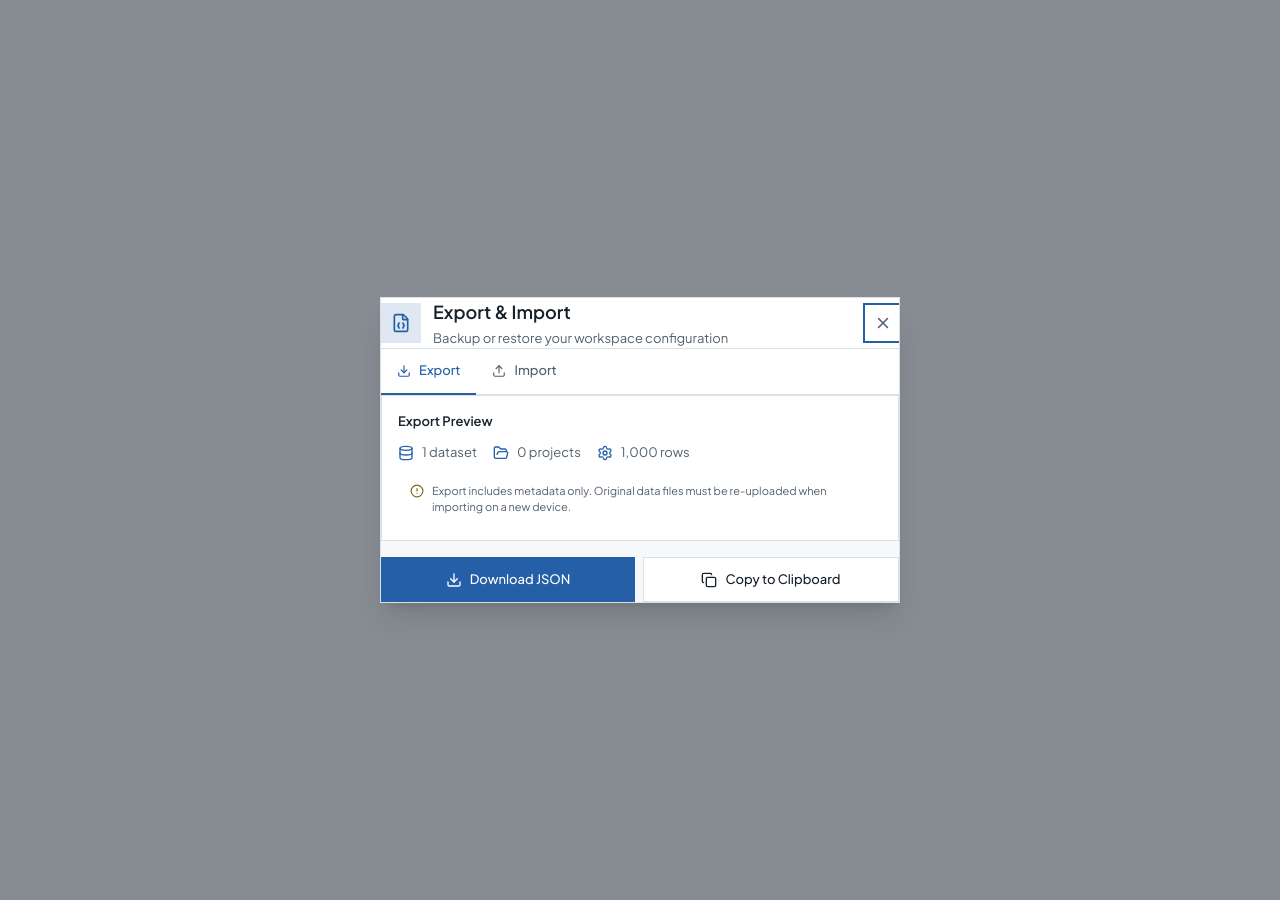
Test: ExportImportModal › shows import content when Import tab is clicked
What coordinates should you click on to do the following:
click the button "Import"
I would click on:
 (525, 372)
Its box is x1=476 y1=349 x2=573 y2=395.
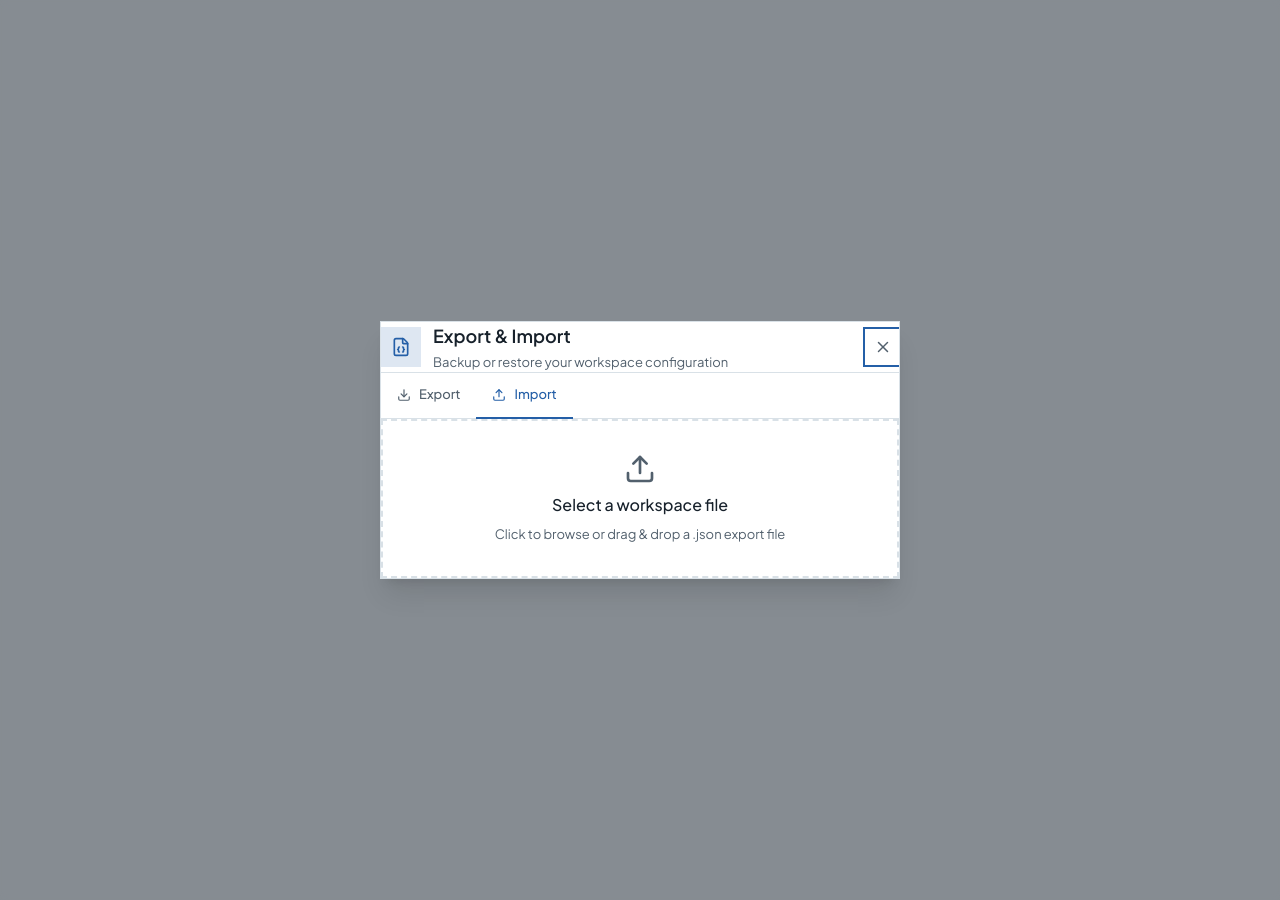
Expected: the heading "Select a workspace file" is shown, x1=552 y1=493 x2=728 y2=517
